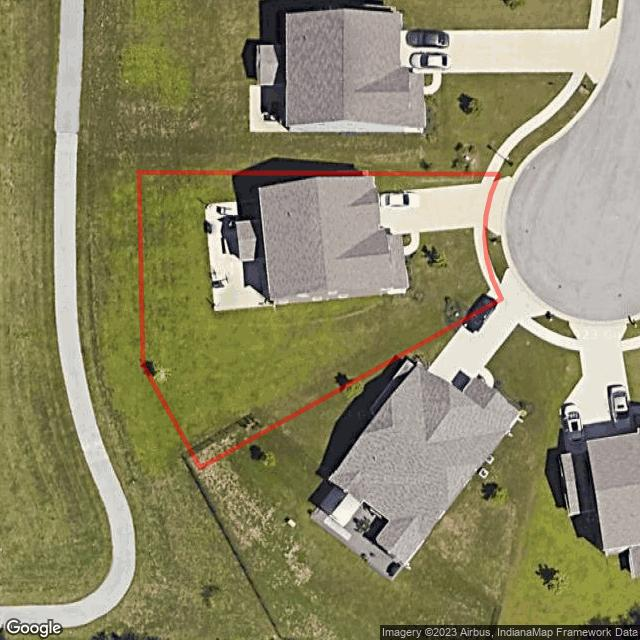Driveway: (378, 182, 493, 235)
Extra Driveway: (488, 176, 513, 236)
Extra Lawn: (488, 228, 510, 286), (500, 171, 515, 179)
Extra Sidewalk: (490, 259, 525, 299)
House: (236, 176, 409, 304)
Other: (205, 200, 273, 311)
Sidewalk: (468, 227, 498, 315), (403, 232, 420, 256), (481, 176, 494, 184)
